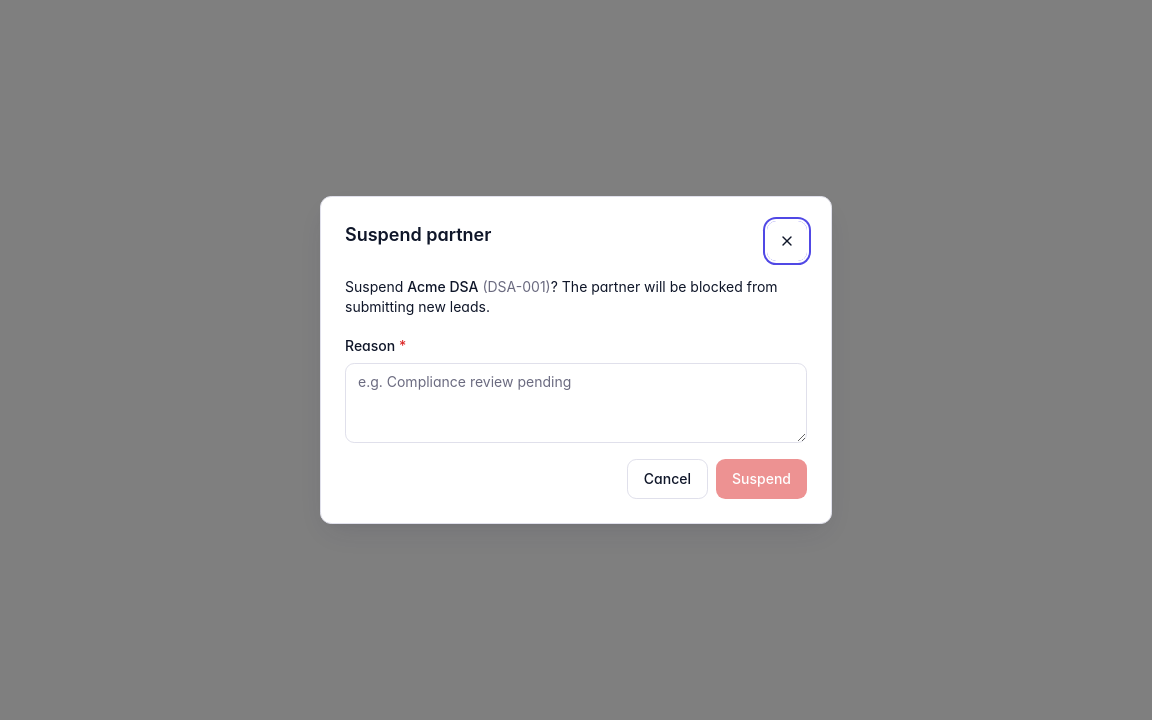
PartnerStatusDialog › surfaces a FORBIDDEN denial inline (BM cannot change status)
The image size is (1152, 720).
Type "x" into the text box labelled "Reason *".
click(576, 403); type("x")  # box [345, 363, 807, 443]
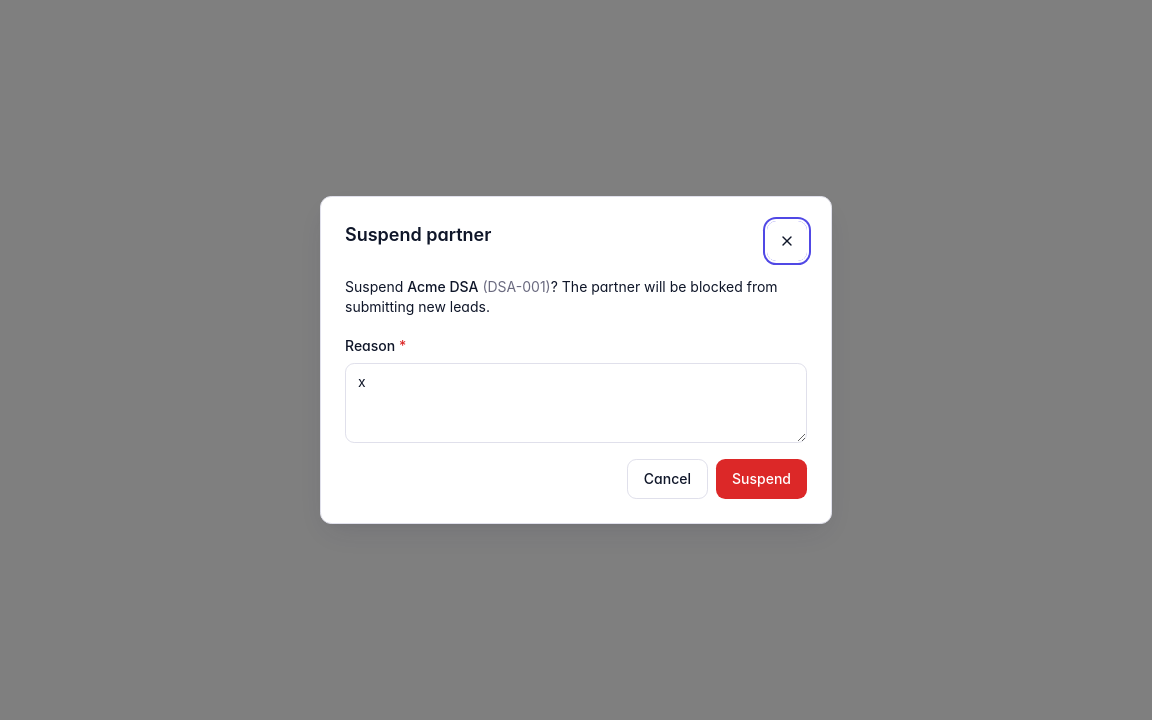
Click the button "Suspend".
click(762, 479)  # box [716, 459, 807, 499]
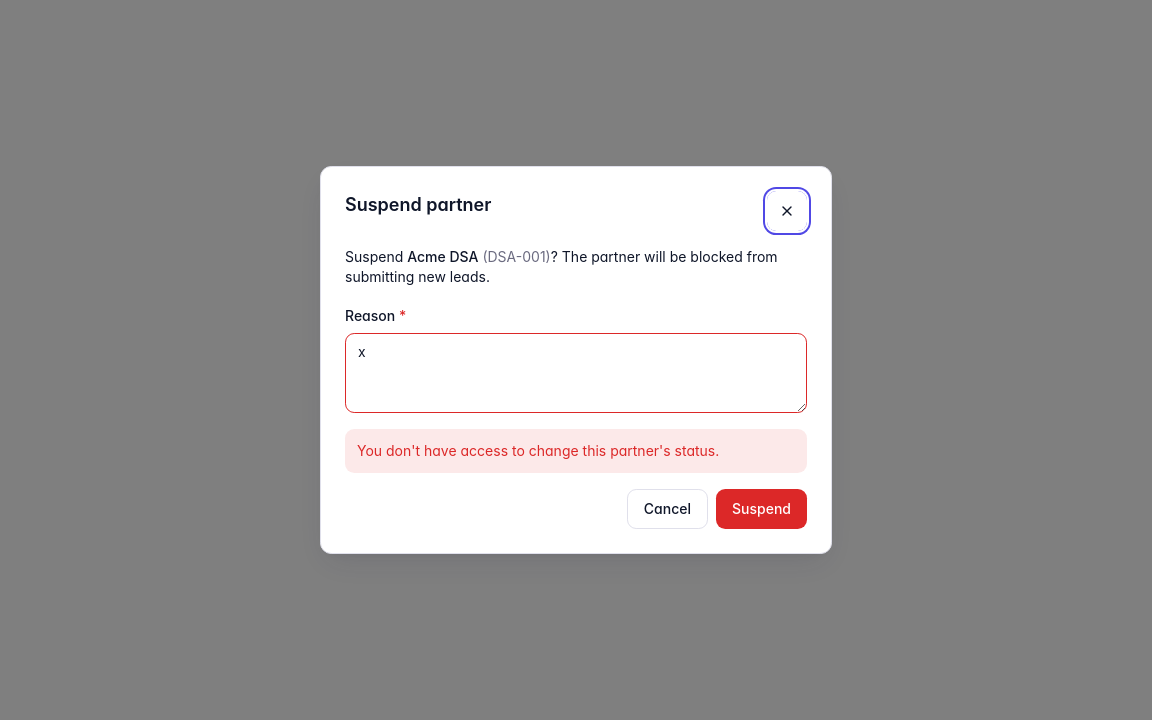
Result: the text "You don't have access to change this partner's status." is shown at [345, 429, 807, 473]
